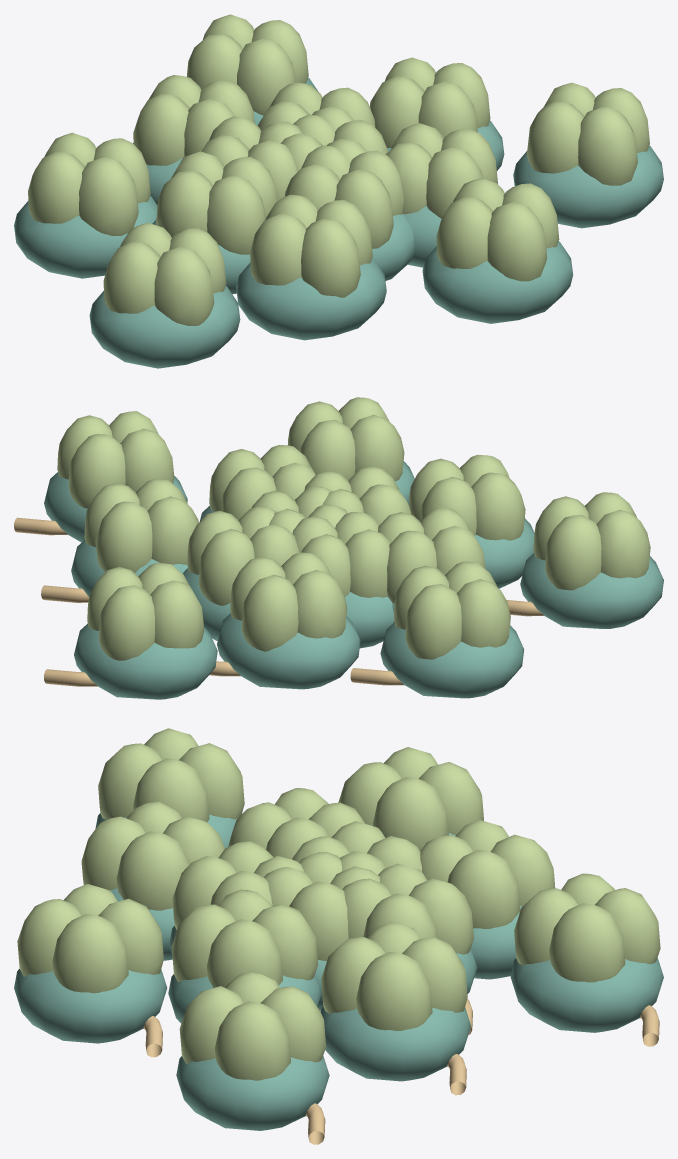
Rendered from bio_oxygen_reef_21_far.glb.
3 renders of one model, top to bottom at view 1: azimuth 30°, elevation 25°; view 2: azimuth 150°, elevation 25°; view 3: azimuth 270°, elevation 25°, orthographic. The views are drawn at different scales.
Parts seen in each view (by area): view 1: Lobed gas sac.040, Lobed gas sac.028, Lobed gas sac.048, Lobed gas sac.052, Lobed gas sac.036, Lobed gas sac.016, Lobed gas sac.044, Lobed gas sac.032, Photosynthetic cushion.007, Photosynthetic cushion.012, Photosynthetic cushion.010, Lobed gas sac.024 (+12 smaller); view 2: Lobed gas sac.024, Lobed gas sac.036, Lobed gas sac.048, Lobed gas sac.044, Lobed gas sac.032, Lobed gas sac.052, Lobed gas sac.040, Lobed gas sac.028, Photosynthetic cushion.011, Photosynthetic cushion.009, Lobed gas sac.012, Photosynthetic cushion.012 (+15 smaller); view 3: Lobed gas sac.040, Lobed gas sac.044, Lobed gas sac.052, Lobed gas sac.032, Lobed gas sac.020, Lobed gas sac.048, Lobed gas sac.028, Lobed gas sac.036, Lobed gas sac.024, Photosynthetic cushion.013, Photosynthetic cushion.011, Photosynthetic cushion.010 (+13 smaller).
Part boxes in pixels (x1,y1,x2,y2): Lobed gas sac.040: [436, 178, 559, 281]; Lobed gas sac.028: [250, 194, 372, 297]; Lobed gas sac.048: [103, 222, 226, 325]; Lobed gas sac.052: [526, 82, 649, 185]; Lobed gas sac.036: [28, 132, 150, 235]; Lobed gas sac.016: [156, 151, 277, 254]; Lobed gas sac.044: [186, 14, 308, 115]; Lobed gas sac.032: [369, 57, 490, 147]; Photosynthetic cushion.007: [236, 258, 386, 340]; Photosynthetic cushion.012: [89, 286, 240, 368]; Photosynthetic cushion.010: [422, 241, 573, 323]; Lobed gas sac.024: [133, 75, 254, 165]; Lobed gas sac.024: [230, 552, 347, 651]; Lobed gas sac.036: [394, 561, 510, 659]; Lobed gas sac.048: [533, 492, 650, 590]; Lobed gas sac.044: [87, 562, 204, 660]; Lobed gas sac.032: [84, 479, 198, 572]; Lobed gas sac.052: [57, 411, 174, 508]; Lobed gas sac.040: [288, 397, 404, 481]; Lobed gas sac.028: [409, 454, 525, 540]; Photosynthetic cushion.011: [74, 623, 217, 699]; Photosynthetic cushion.009: [380, 622, 524, 698]; Lobed gas sac.012: [187, 506, 299, 605]; Photosynthetic cushion.012: [520, 553, 663, 628]; Lobed gas sac.040: [17, 884, 163, 993]; Lobed gas sac.044: [514, 873, 660, 982]; Lobed gas sac.052: [179, 971, 326, 1080]; Lobed gas sac.032: [321, 921, 467, 1030]; Lobed gas sac.020: [171, 889, 318, 987]; Lobed gas sac.048: [98, 728, 244, 821]; Lobed gas sac.028: [81, 801, 225, 910]; Lobed gas sac.036: [338, 747, 483, 850]; Lobed gas sac.024: [420, 820, 555, 928]; Photosynthetic cushion.013: [176, 1056, 329, 1130]; Photosynthetic cushion.011: [510, 957, 663, 1032]; Photosynthetic cushion.010: [14, 969, 167, 1043].
Bounding box in the file's own units: 2.35 × 0.4497 × 2.03.
